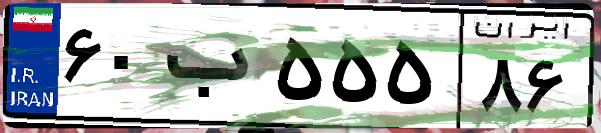0: (110, 28, 158, 98)
5: (270, 28, 330, 110), (385, 28, 445, 110), (330, 28, 385, 110)
6: (57, 26, 110, 100), (525, 38, 570, 115)
8: (475, 38, 525, 113)
ب: (158, 20, 270, 120)
